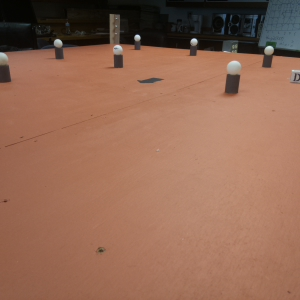blockD: (290, 69, 300, 83)
corner: (109, 13, 120, 43)
obstacle: (224, 60, 241, 95), (262, 45, 273, 68), (1, 52, 9, 81), (112, 45, 123, 66), (53, 38, 63, 59), (189, 38, 197, 56), (134, 34, 140, 50)
start: (137, 76, 162, 85)
